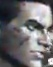kevin: (9, 2, 52, 66)
